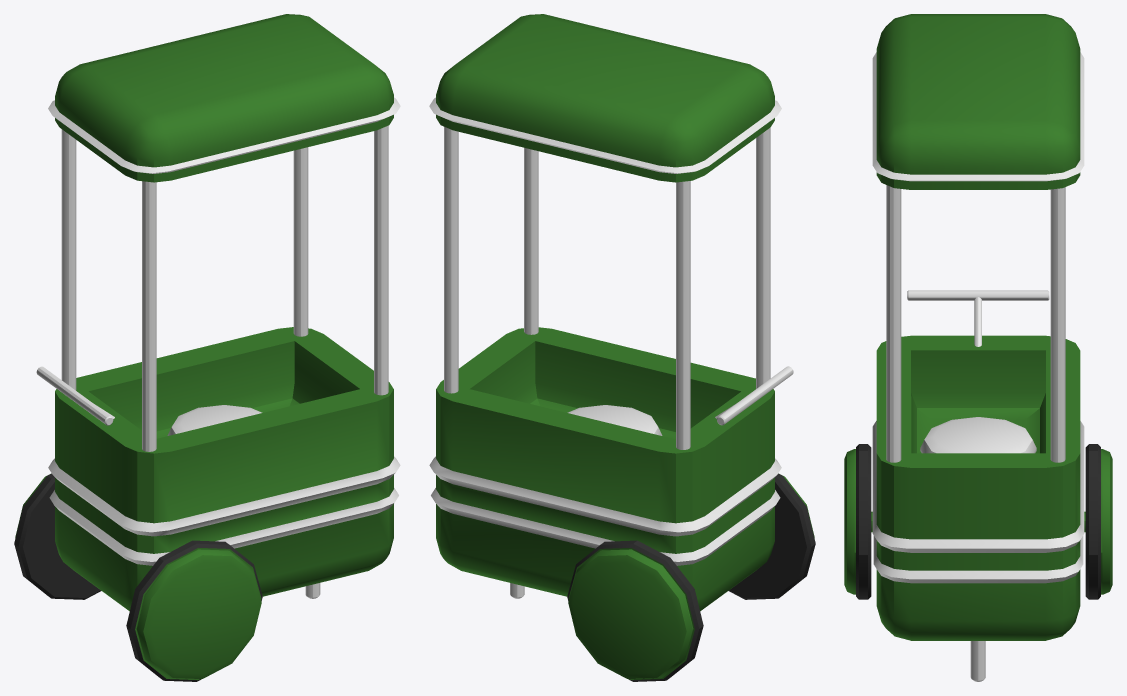
File: CandyFlossStall.fbx
3 renders of one model, left to right at view 1: azimuth 30°, elevation 25°; view 2: azimuth 150°, elevation 25°; view 3: azimuth 270°, elevation 25°, orthographic. The views are drawn at different scales.
Visible parts, largest first — view 1: CandyFlossCart; view 2: CandyFlossCart; view 3: CandyFlossCart.
Boxes of the visible parts, <box> form: CandyFlossCart: <box>14,14,400,681</box>; CandyFlossCart: <box>429,14,815,681</box>; CandyFlossCart: <box>844,14,1112,681</box>.
Size of the model in its own units: 441 by 800 by 343.
